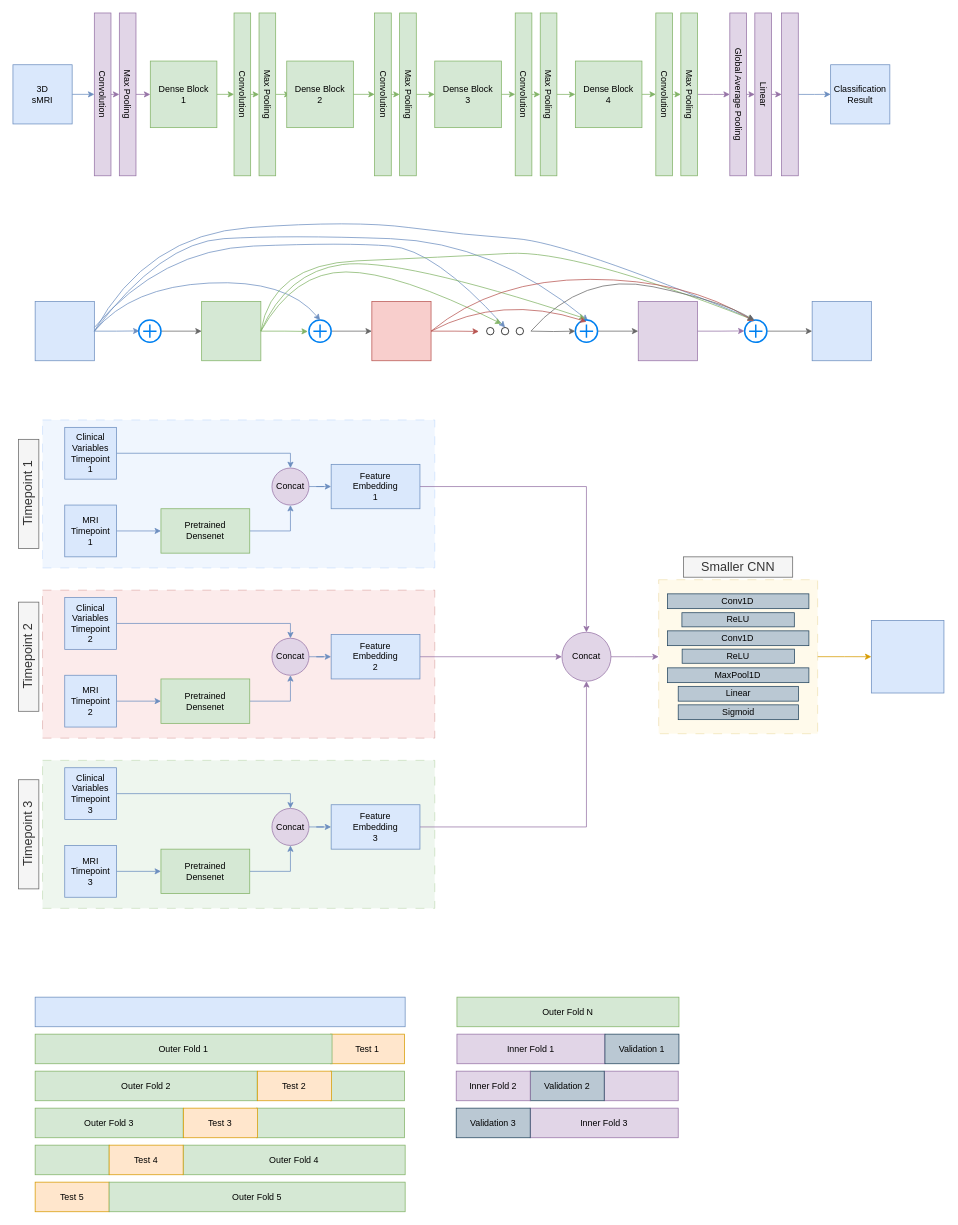
This 958x1225 diagram has some shape labels left out. Each missing label, with the centre of its shape:
Conv 1: [231,331]
Conv 2: [401,331]
Conv N: [667,331]
Full Dataset: [219,1011]
Input: [64,331]
Output: [841,331]
Prediction of Conversion: [907,656]
Softmax: [789,94]
